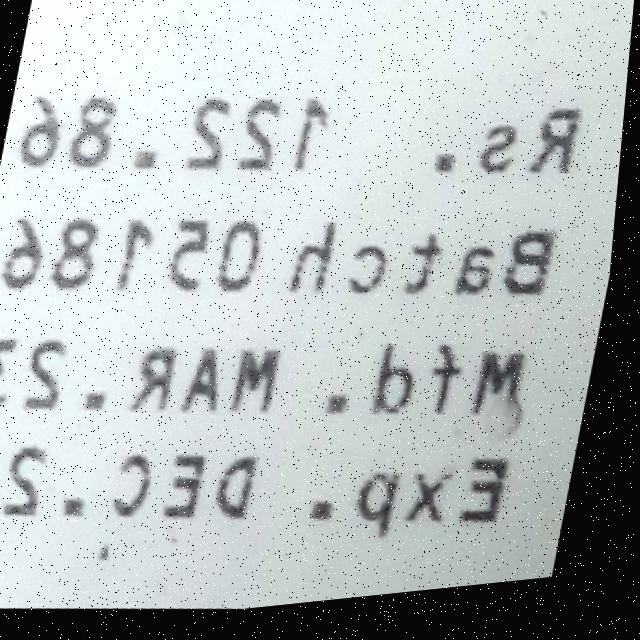sentence: (0, 337, 535, 441), (21, 98, 587, 193), (0, 444, 521, 547), (5, 219, 564, 307)
